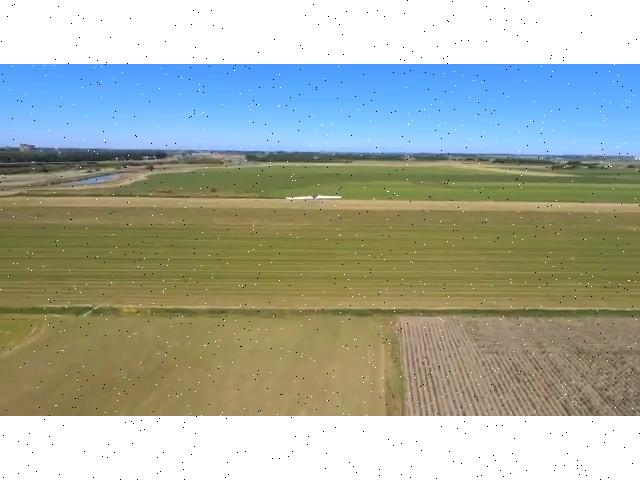Anti-Drone: (279, 179, 355, 221)
